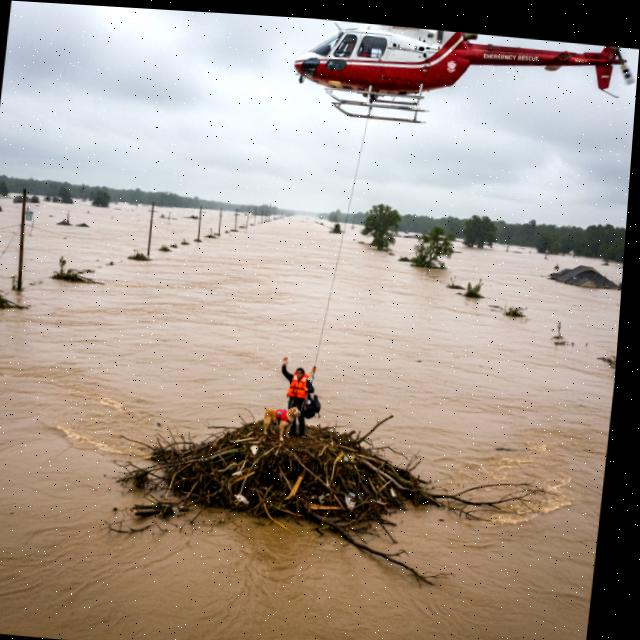civilian: (265, 348, 325, 443)
dog: (256, 398, 307, 450)
